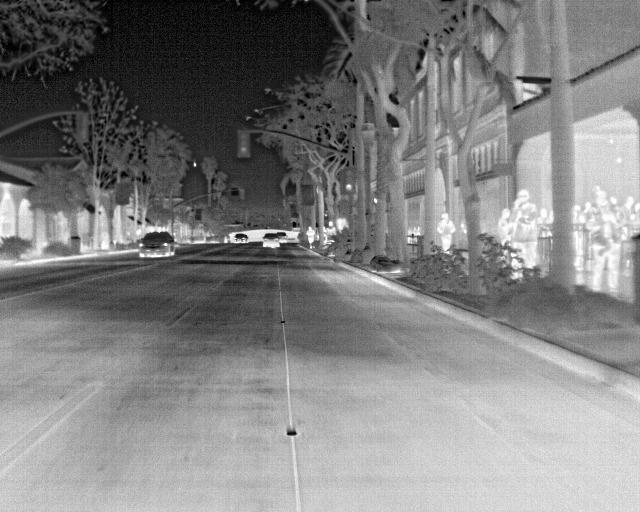bicycle: (138, 229, 178, 260), (258, 232, 284, 248), (232, 233, 249, 245)
empty: (586, 190, 624, 296), (510, 189, 541, 270), (435, 210, 456, 254), (496, 205, 513, 245), (579, 201, 595, 225), (623, 192, 636, 220), (303, 225, 318, 248)
